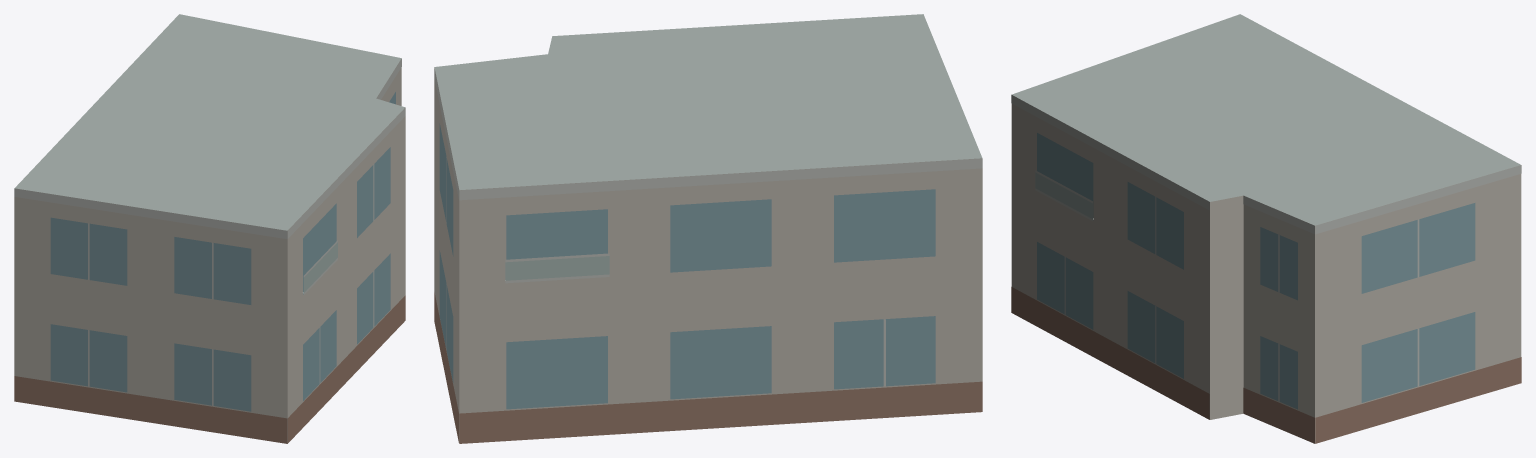
The model's file is survey-upis-33031579.glb.
3 renders of one model, left to right at view 1: azimuth 30°, elevation 25°; view 2: azimuth 150°, elevation 25°; view 3: azimuth 270°, elevation 25°, orthographic. The views are drawn at different scales.
Visible parts, largest first — view 1: survey-upis-33031579.tmp; view 2: survey-upis-33031579.tmp; view 3: survey-upis-33031579.tmp.
Part boxes in pixels (bbox=[...]): survey-upis-33031579.tmp: bbox=[14, 14, 405, 443]; survey-upis-33031579.tmp: bbox=[434, 14, 982, 443]; survey-upis-33031579.tmp: bbox=[1011, 14, 1521, 443].
Bounding box in the file's own units: 12.71 × 6.1 × 12.93.
